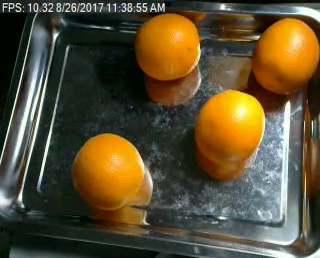Orange: (71, 133, 145, 211), (195, 88, 266, 166), (252, 16, 320, 93), (135, 13, 202, 80)
